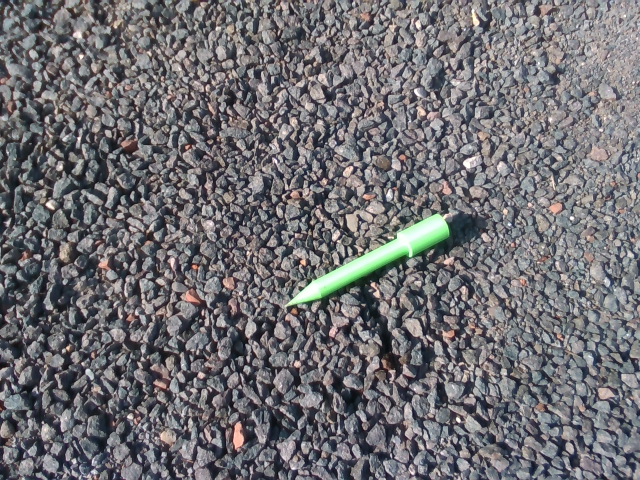Probe: (279, 210, 454, 315)
